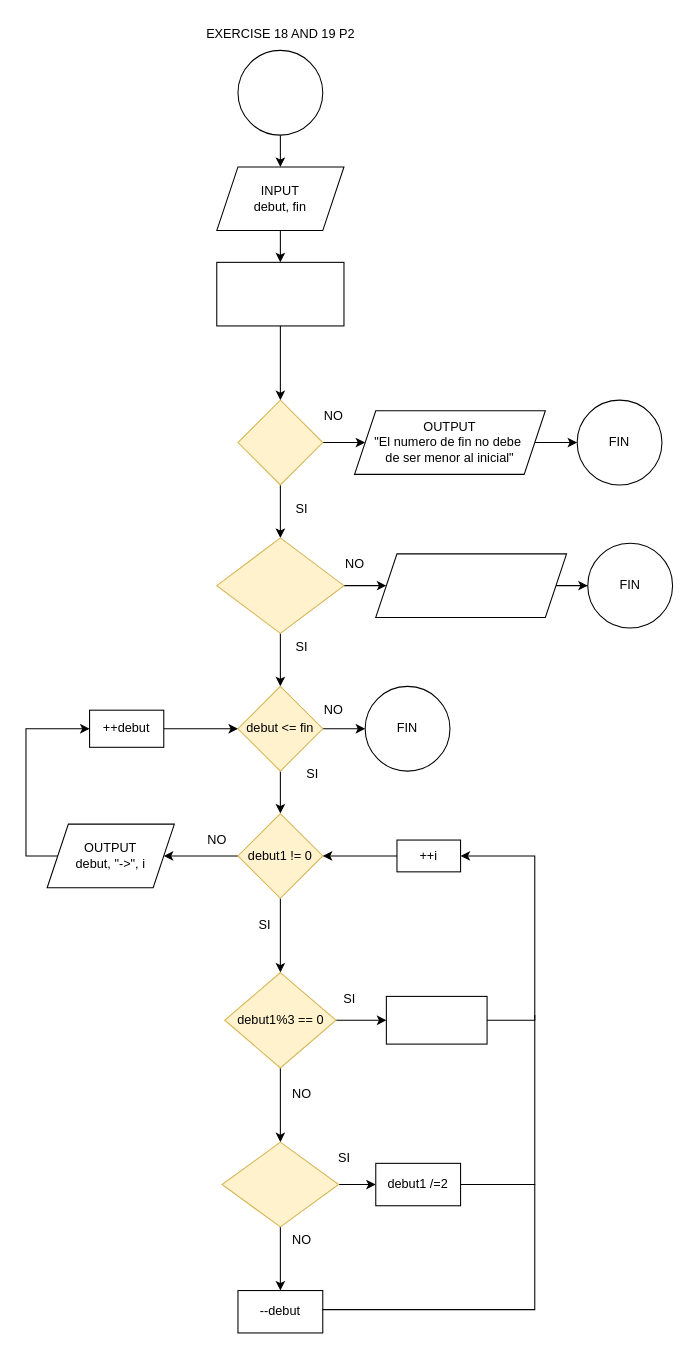
This 691x1351 diagram has some shape labels left out. The shapes that lost their labels are listed below. From the top down, each one's centre as x and y in pixels, then its label:
point 280,92: INICIO
point 280,293: i = 0 debut1 = debut
point 280,442: fin >=debut
point 280,585: debut > 0 and fin > 0
point 471,585: OUTPUT "El numero debe de ser positivo y mayor a zero"
point 436,1019: debut1 += 4
point 280,1184: debut1%4 == 0
